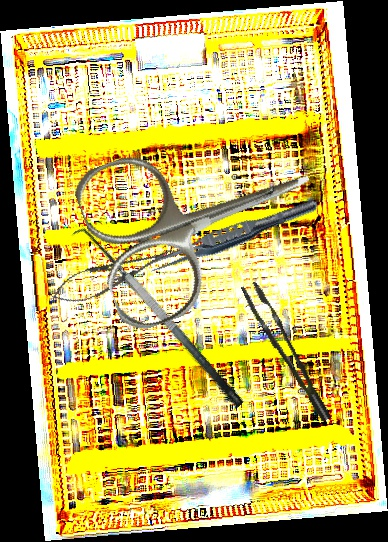Iris Scissors: (68, 100, 339, 337)
Needle Holder: (46, 238, 178, 313)
Spatula Surgical: (67, 217, 246, 422)
Tissue Forceps: (143, 190, 321, 282), (240, 274, 332, 431)
